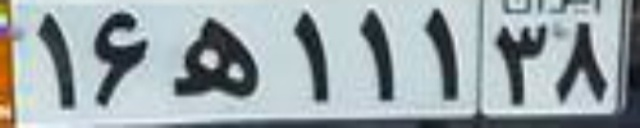1: (36, 12, 76, 109), (354, 7, 394, 101), (292, 9, 332, 101), (423, 4, 460, 100)
3: (494, 21, 545, 107)
6: (90, 10, 153, 106)
8: (553, 21, 608, 103)
he: (169, 15, 264, 100)
